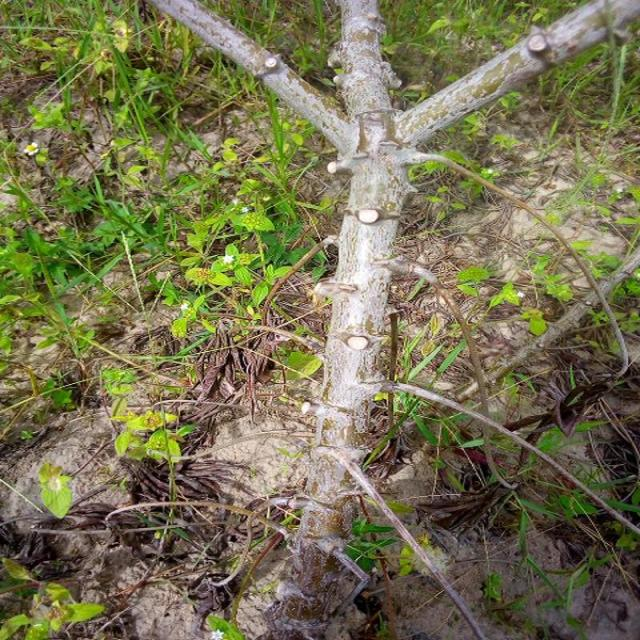cassava leaf: (37, 460, 73, 519)
